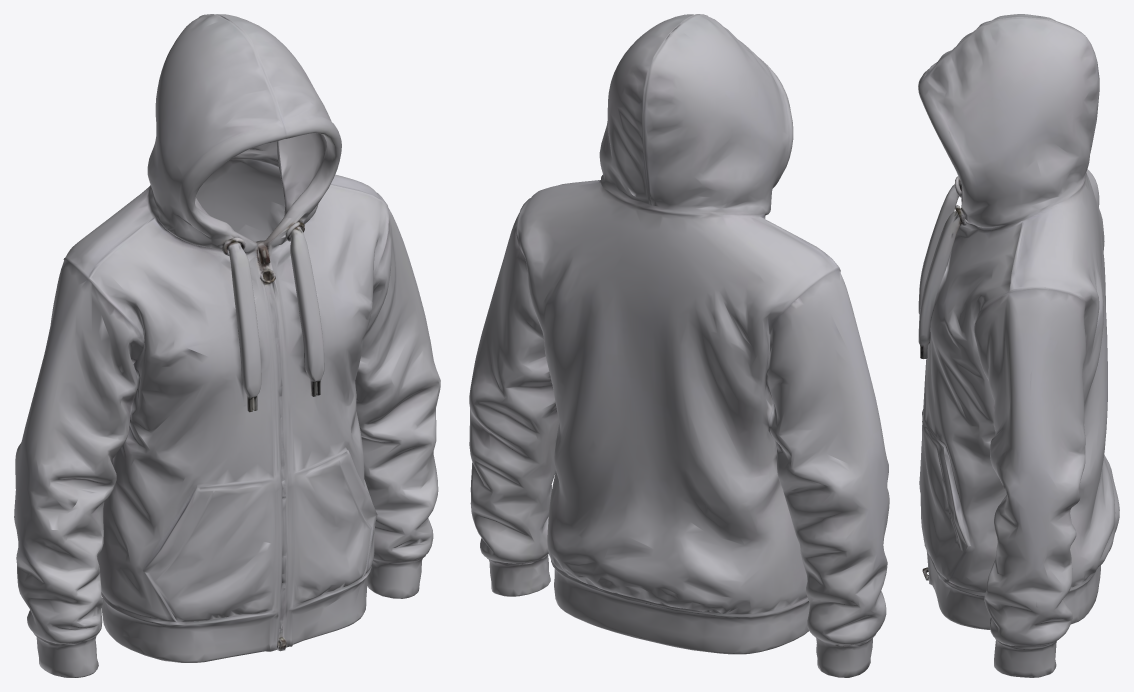
The model's file is zipHoodie-long.glb.
3 renders of one model, left to right at view 1: azimuth 30°, elevation 25°; view 2: azimuth 150°, elevation 25°; view 3: azimuth 270°, elevation 25°, orthographic. The views are drawn at different scales.
Visible parts, largest first — view 1: material; view 2: material; view 3: material.
Part boxes in pixels (x1,y1,x2,y2): material: [14, 14, 440, 677]; material: [469, 14, 889, 677]; material: [918, 14, 1119, 677].
Bounding box in the file's own units: 0.7138 × 1.01 × 0.3219.
Materials: 1 (1 with a texture image).
